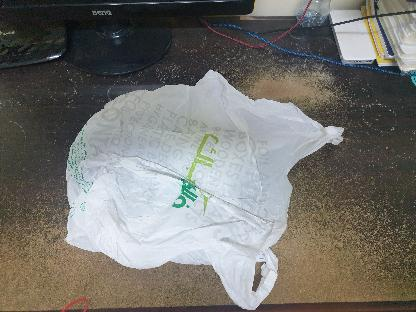Plastic Bag: (58, 64, 348, 312)
